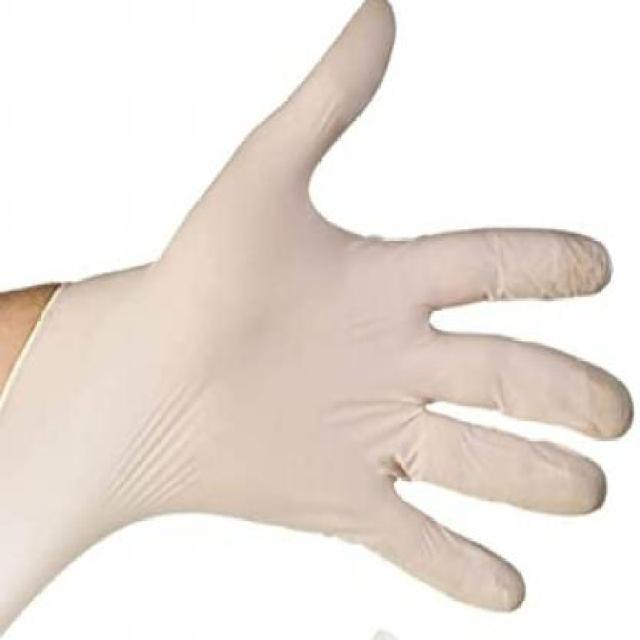glove_hand: (47, 0, 636, 638)
